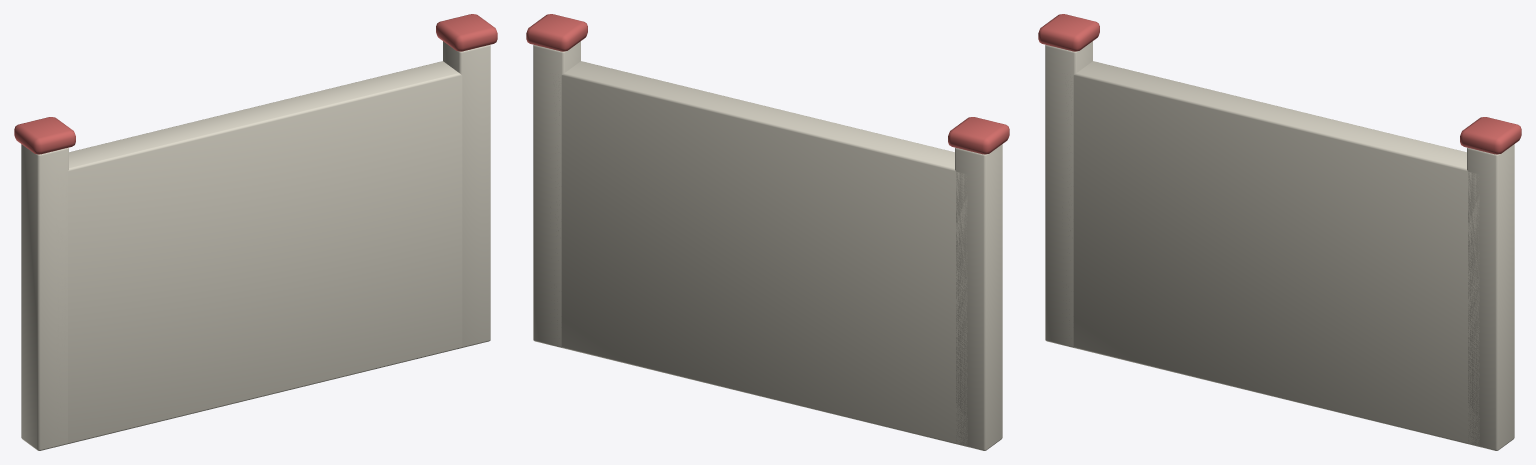
The model's file is recinzione.glb.
3 renders of one model, left to right at view 1: azimuth 30°, elevation 25°; view 2: azimuth 150°, elevation 25°; view 3: azimuth 330°, elevation 25°, orthographic.
Parts seen in each view (by area): view 1: COL_recinzione, pilastro_-1, pilastro_1, cima_1, cima_-1; view 2: COL_recinzione, pilastro_-1, pilastro_1, cima_1, cima_-1; view 3: COL_recinzione, pilastro_1, pilastro_-1, cima_-1, cima_1.
Boxes of the visible parts, x1=… form: COL_recinzione: x1=56, y1=61, x2=472, y2=444; pilastro_-1: x1=21, y1=144, x2=68, y2=450; pilastro_1: x1=443, y1=41, x2=490, y2=347; cima_1: x1=436, y1=14, x2=497, y2=51; cima_-1: x1=14, y1=117, x2=75, y2=154; COL_recinzione: x1=550, y1=61, x2=967, y2=446; pilastro_-1: x1=955, y1=144, x2=1002, y2=450; pilastro_1: x1=533, y1=41, x2=580, y2=347; cima_1: x1=526, y1=14, x2=587, y2=51; cima_-1: x1=948, y1=117, x2=1009, y2=154; COL_recinzione: x1=1062, y1=61, x2=1479, y2=446; pilastro_1: x1=1467, y1=144, x2=1514, y2=450; pilastro_-1: x1=1045, y1=41, x2=1092, y2=347; cima_-1: x1=1038, y1=14, x2=1099, y2=51; cima_1: x1=1460, y1=117, x2=1521, y2=154.
Size of the model in its own units: 4.4 by 2.85 by 0.4.
